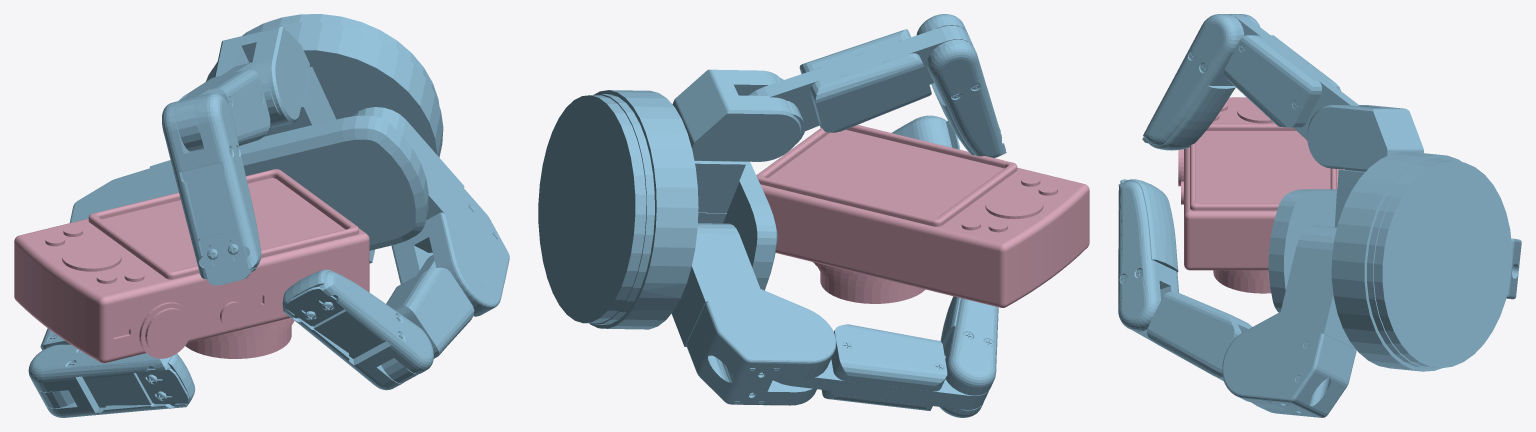
The picture shows the model from 3 angles, left to right: view 1: azimuth 30°, elevation 25°; view 2: azimuth 150°, elevation 25°; view 3: azimuth 270°, elevation 25°; orthographic projection. The views are drawn at different scales.
Visible parts, largest first — view 1: world; view 2: world; view 3: world.
Boxes of the visible parts, x1,y1,x2,y2 form: world: (14, 14, 509, 417); world: (538, 14, 1089, 417); world: (1118, 14, 1521, 417).
Bounding box in the file's own units: 0.1977 × 0.1372 × 0.1649.
